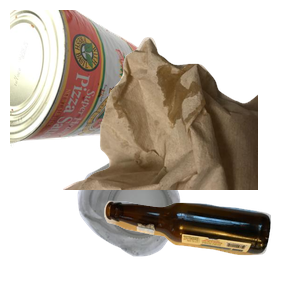glass: (101, 198, 300, 300)
metal: (10, 10, 159, 152)
plastic: (75, 154, 248, 300)
trash: (60, 35, 300, 215)
